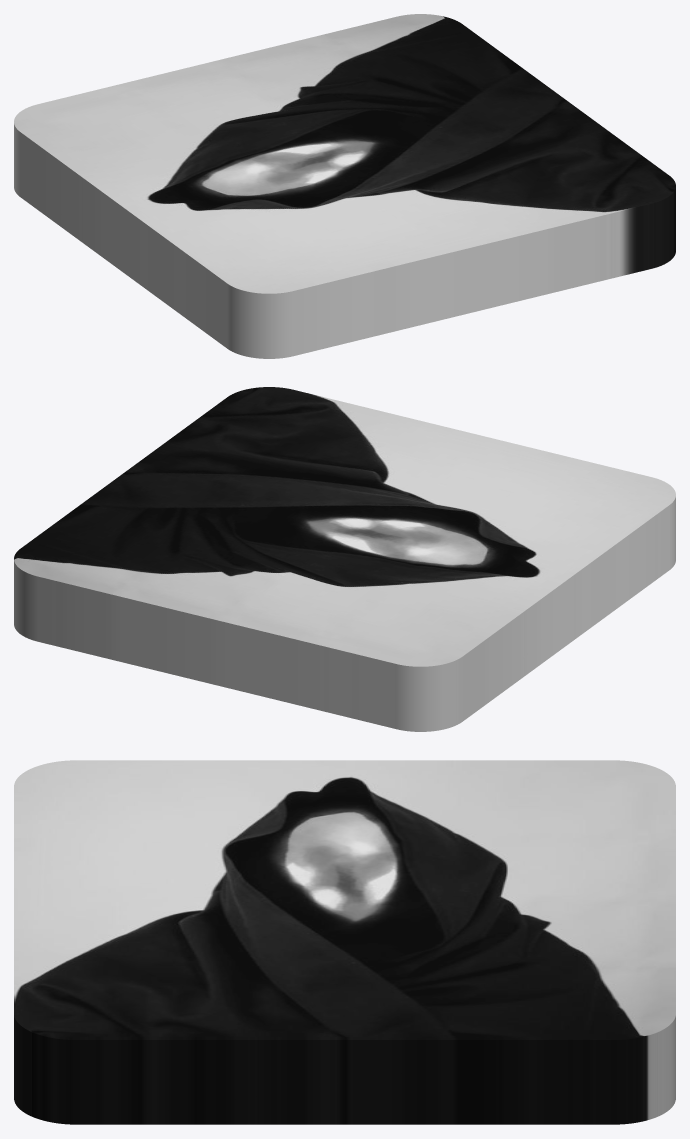
File: shadow.glb
The picture shows the model from 3 angles, top to bottom: view 1: azimuth 30°, elevation 25°; view 2: azimuth 150°, elevation 25°; view 3: azimuth 270°, elevation 25°; orthographic projection. The views are drawn at different scales.
Parts seen in each view (by area): view 1: front; view 2: front; view 3: front.
Part boxes in pixels (x1,y1,x2,y2): front: [14, 14, 675, 358]; front: [14, 387, 675, 731]; front: [14, 760, 675, 1124].
Size of the model in its own units: 1 by 0.1409 by 1.
Materials: 1 (1 with a texture image).
